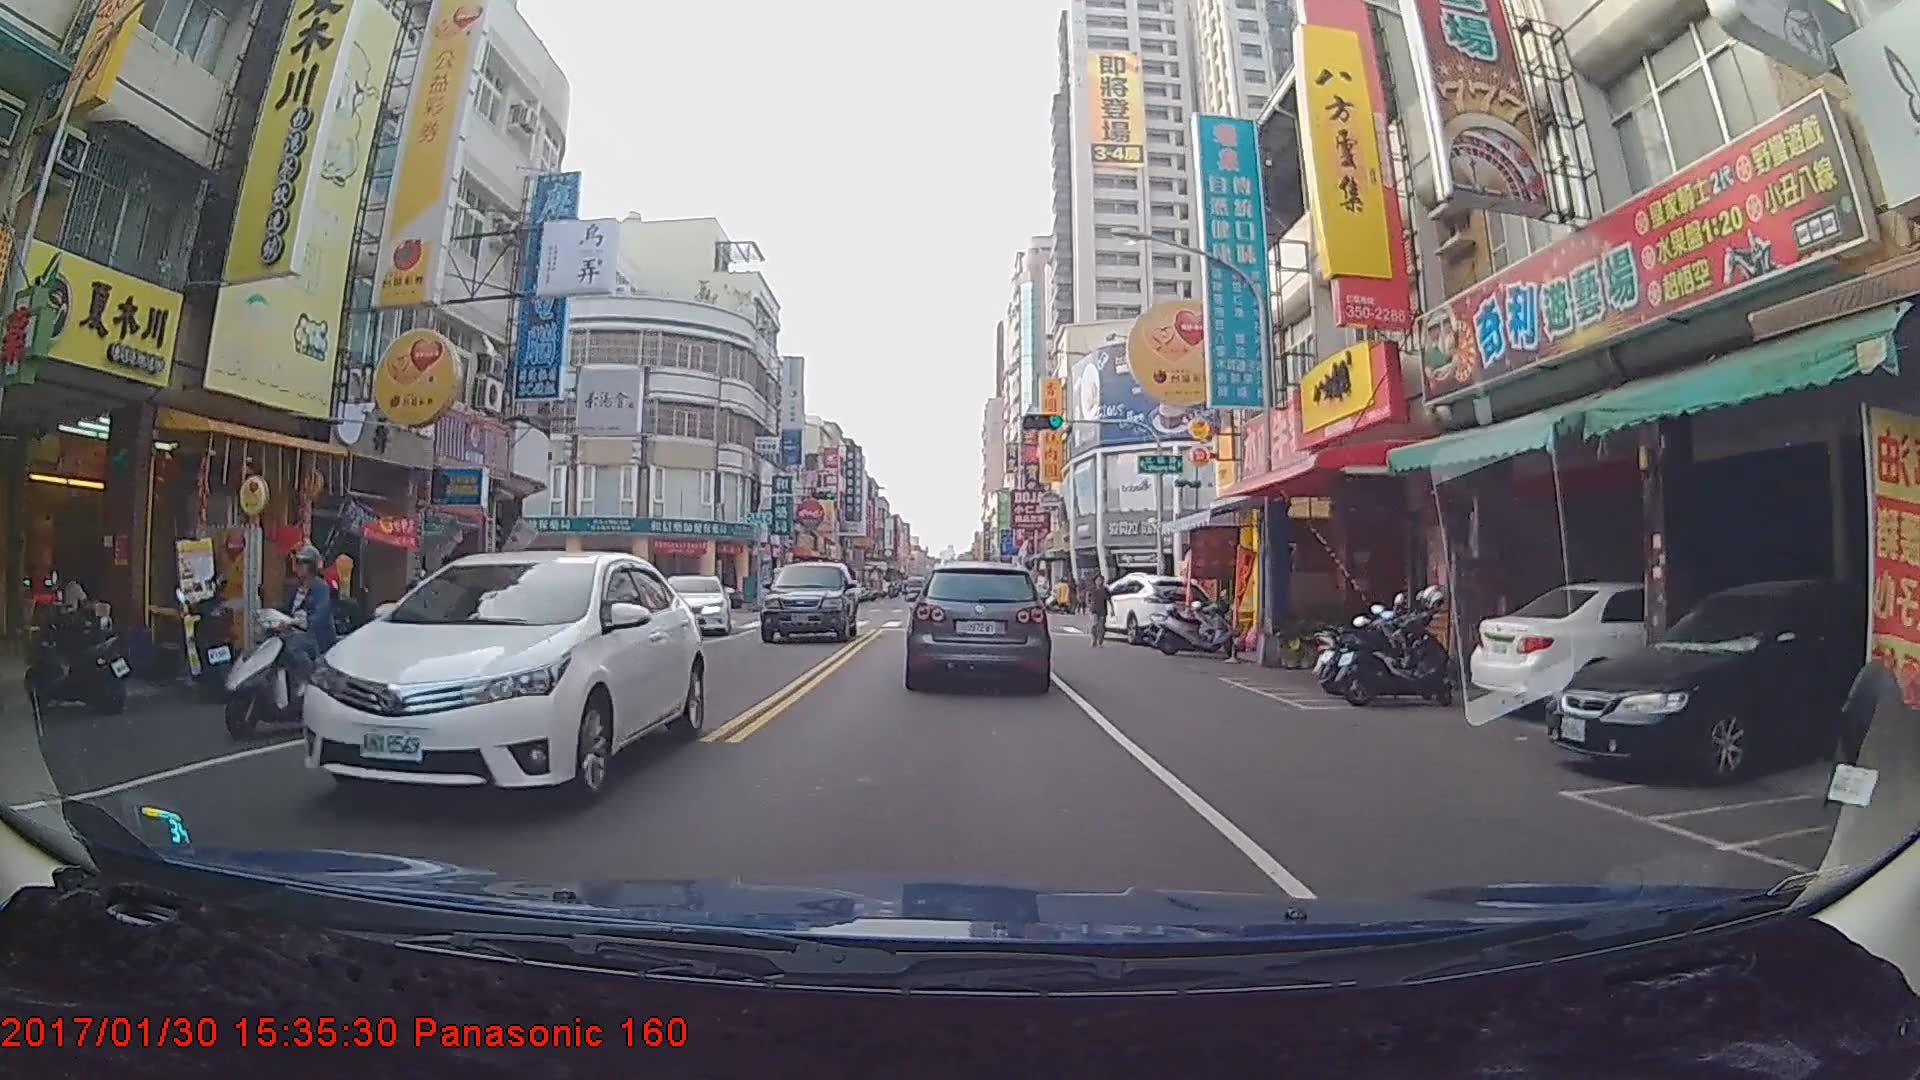pedestrian: (1087, 575, 1113, 651)
rider: (215, 544, 352, 742)
vehicle: (300, 549, 705, 807), (1542, 571, 1920, 787), (908, 560, 1049, 689), (1084, 574, 1219, 646), (761, 560, 859, 645), (650, 571, 730, 636), (902, 576, 928, 604)
